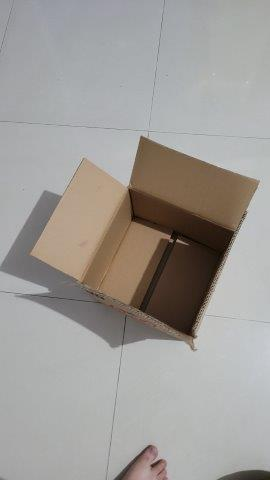kardus: (22, 136, 260, 352)
